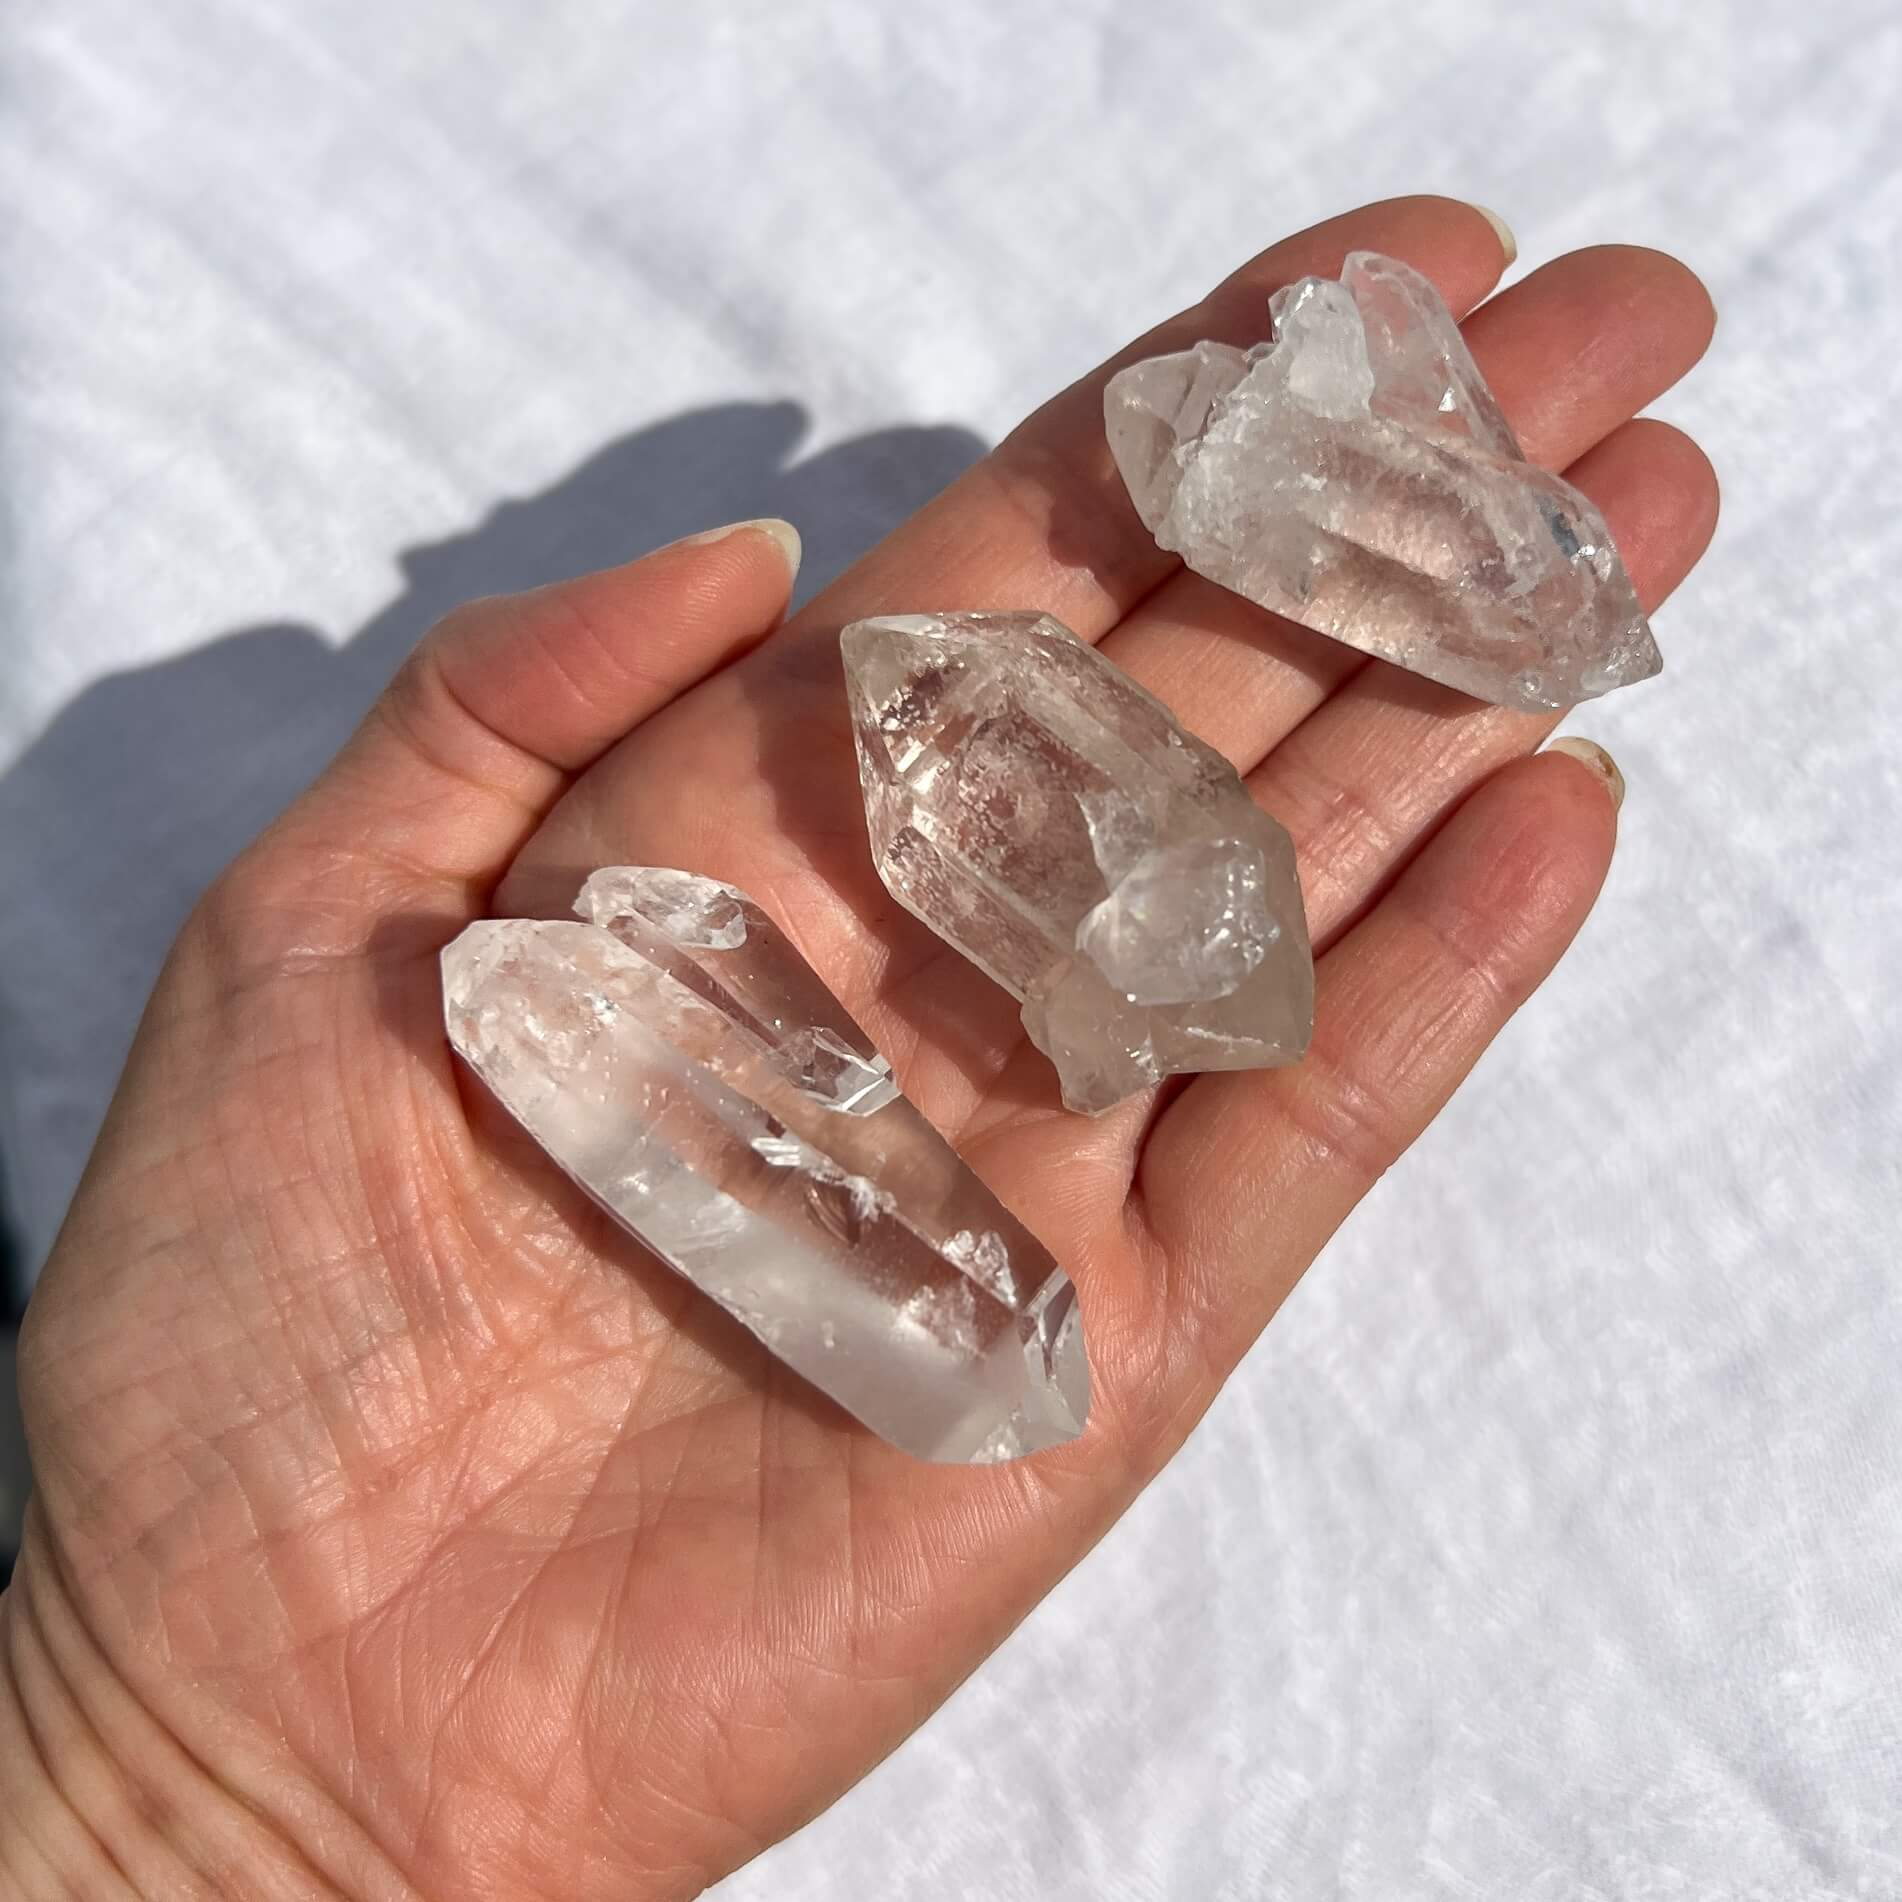Clear_Quartz: (441, 864, 1099, 1464), (1097, 238, 1672, 717), (828, 613, 1312, 1086)
